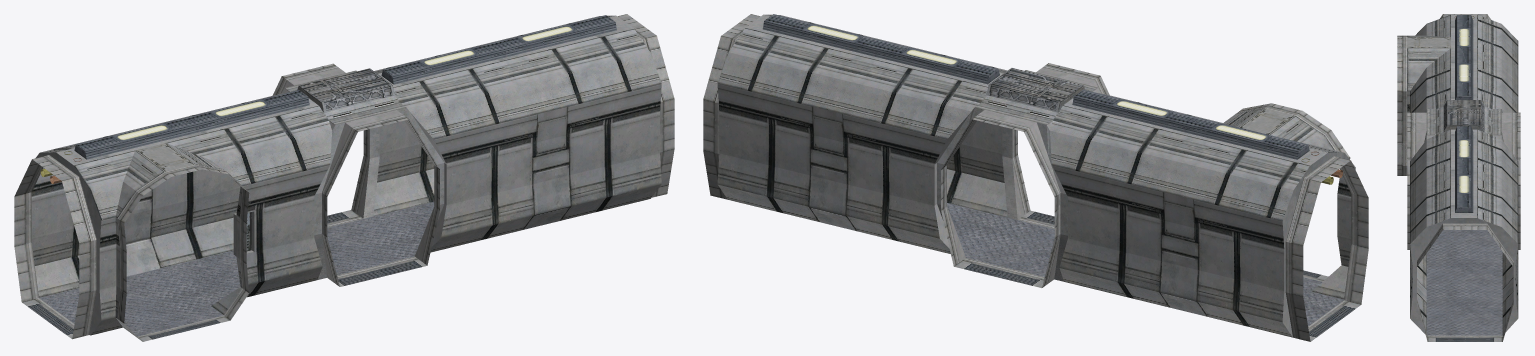
The model's file is ykl37r_r4_hallmid_mesh.fbx.
3 views of the same model, side by side, from view 1: azimuth 30°, elevation 25°; view 2: azimuth 150°, elevation 25°; view 3: azimuth 270°, elevation 25° (orthographic). The views are drawn at different scales.
Visible parts, largest first — view 1: mesh_node; view 2: mesh_node; view 3: mesh_node.
Part boxes in pixels (x1=…): mesh_node: x1=14, y1=14, x2=674, y2=341; mesh_node: x1=703, y1=14, x2=1368, y2=341; mesh_node: x1=1397, y1=14, x2=1520, y2=341.
Bounding box in the file's own units: 12.4 × 3.29 × 3.
